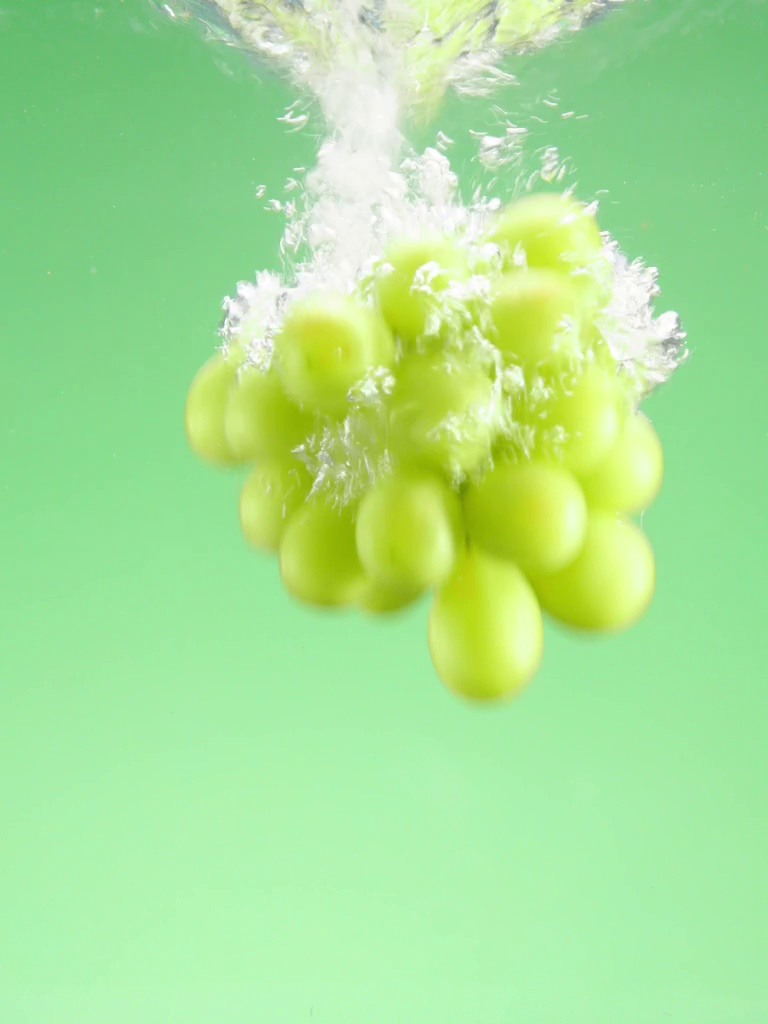grape: (182, 196, 666, 705)
